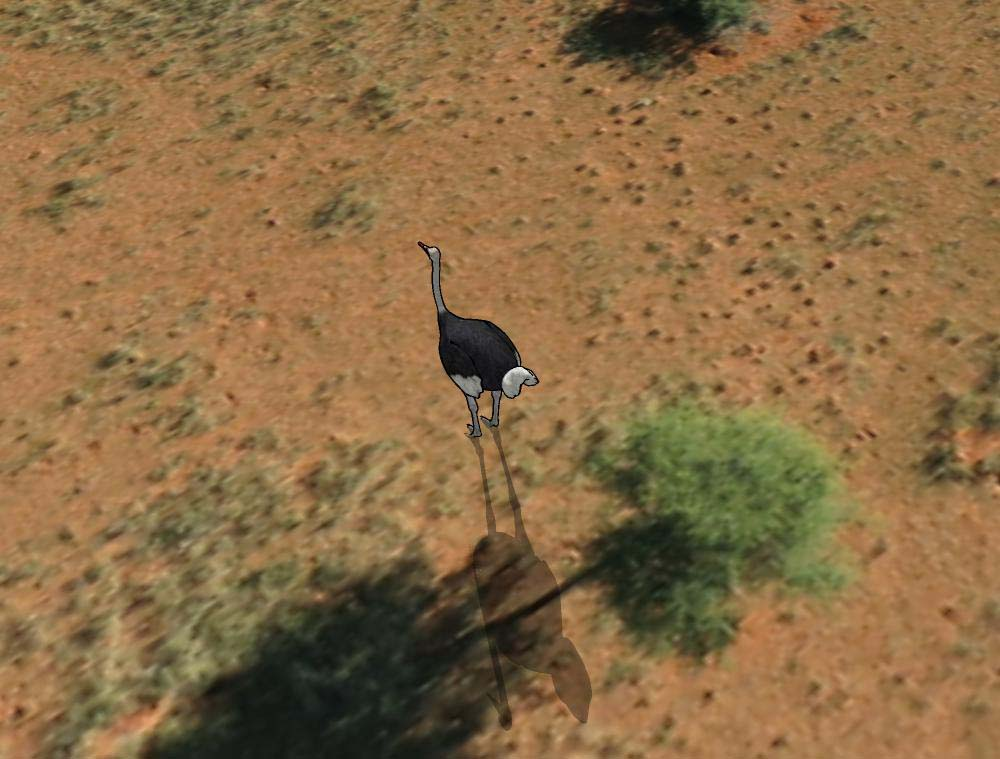springbok: (413, 233, 546, 444)
